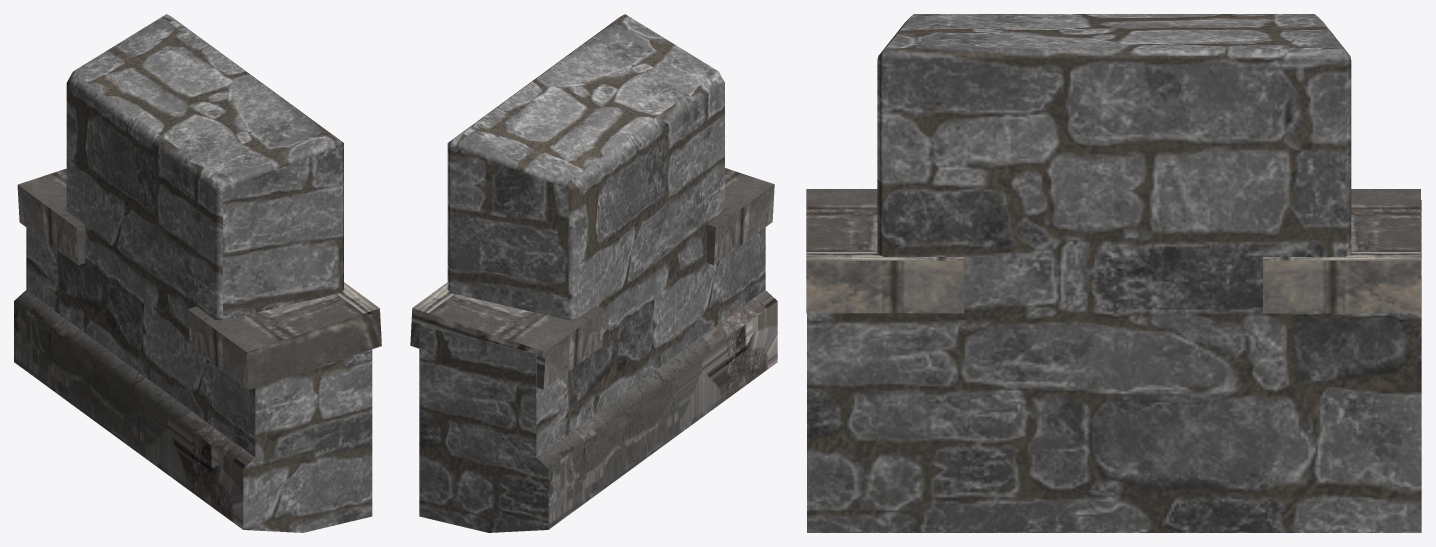
The model's file is MC_Battlements_Wall_C_2m.fbx.
3 renders of one model, left to right at view 1: azimuth 30°, elevation 25°; view 2: azimuth 150°, elevation 25°; view 3: azimuth 270°, elevation 25°, orthographic. The views are drawn at different scales.
Visible parts, largest first — view 1: MC_Battlements_Wall_C_2m; view 2: MC_Battlements_Wall_C_2m; view 3: MC_Battlements_Wall_C_2m.
Part boxes in pixels (left/top/right/bottom): MC_Battlements_Wall_C_2m: left=14, top=14, right=381, bottom=532; MC_Battlements_Wall_C_2m: left=410, top=14, right=777, bottom=532; MC_Battlements_Wall_C_2m: left=806, top=14, right=1421, bottom=532.
Bounding box in the file's own units: 69.77 × 172 × 200.
